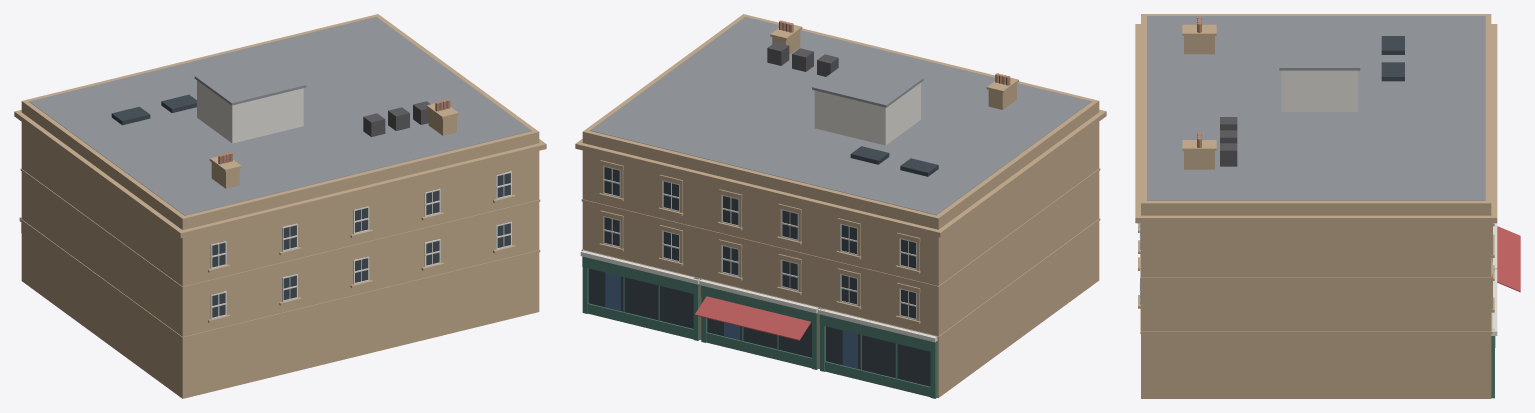
Rendered from shopflats3.glb.
3 renders of one model, left to right at view 1: azimuth 30°, elevation 25°; view 2: azimuth 150°, elevation 25°; view 3: azimuth 270°, elevation 25°, orthographic. The views are drawn at different scales.
Parts seen in each view (by area): view 1: shopflats3; view 2: shopflats3; view 3: shopflats3.
Boxes of the visible parts, x1,y1,x2,y2 form: shopflats3: [14, 14, 546, 398]; shopflats3: [575, 14, 1106, 398]; shopflats3: [1135, 14, 1520, 398].
Bounding box in the file's own units: 23.6 × 13.67 × 19.8.
